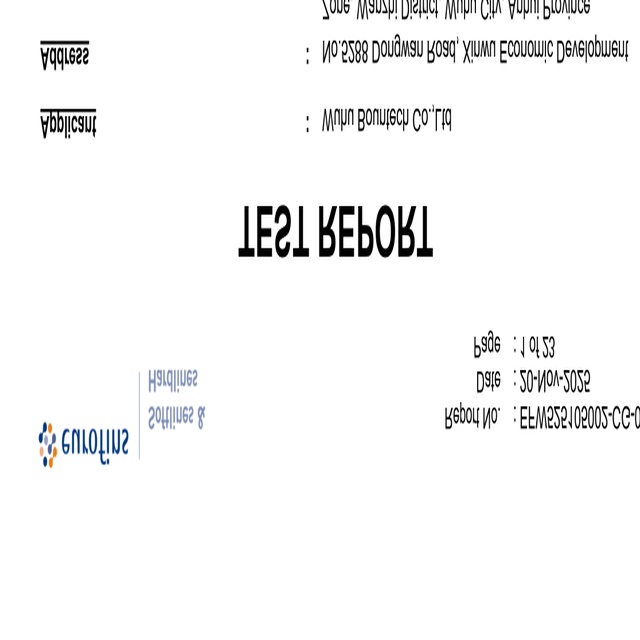eurofins: (35, 416, 131, 466)
